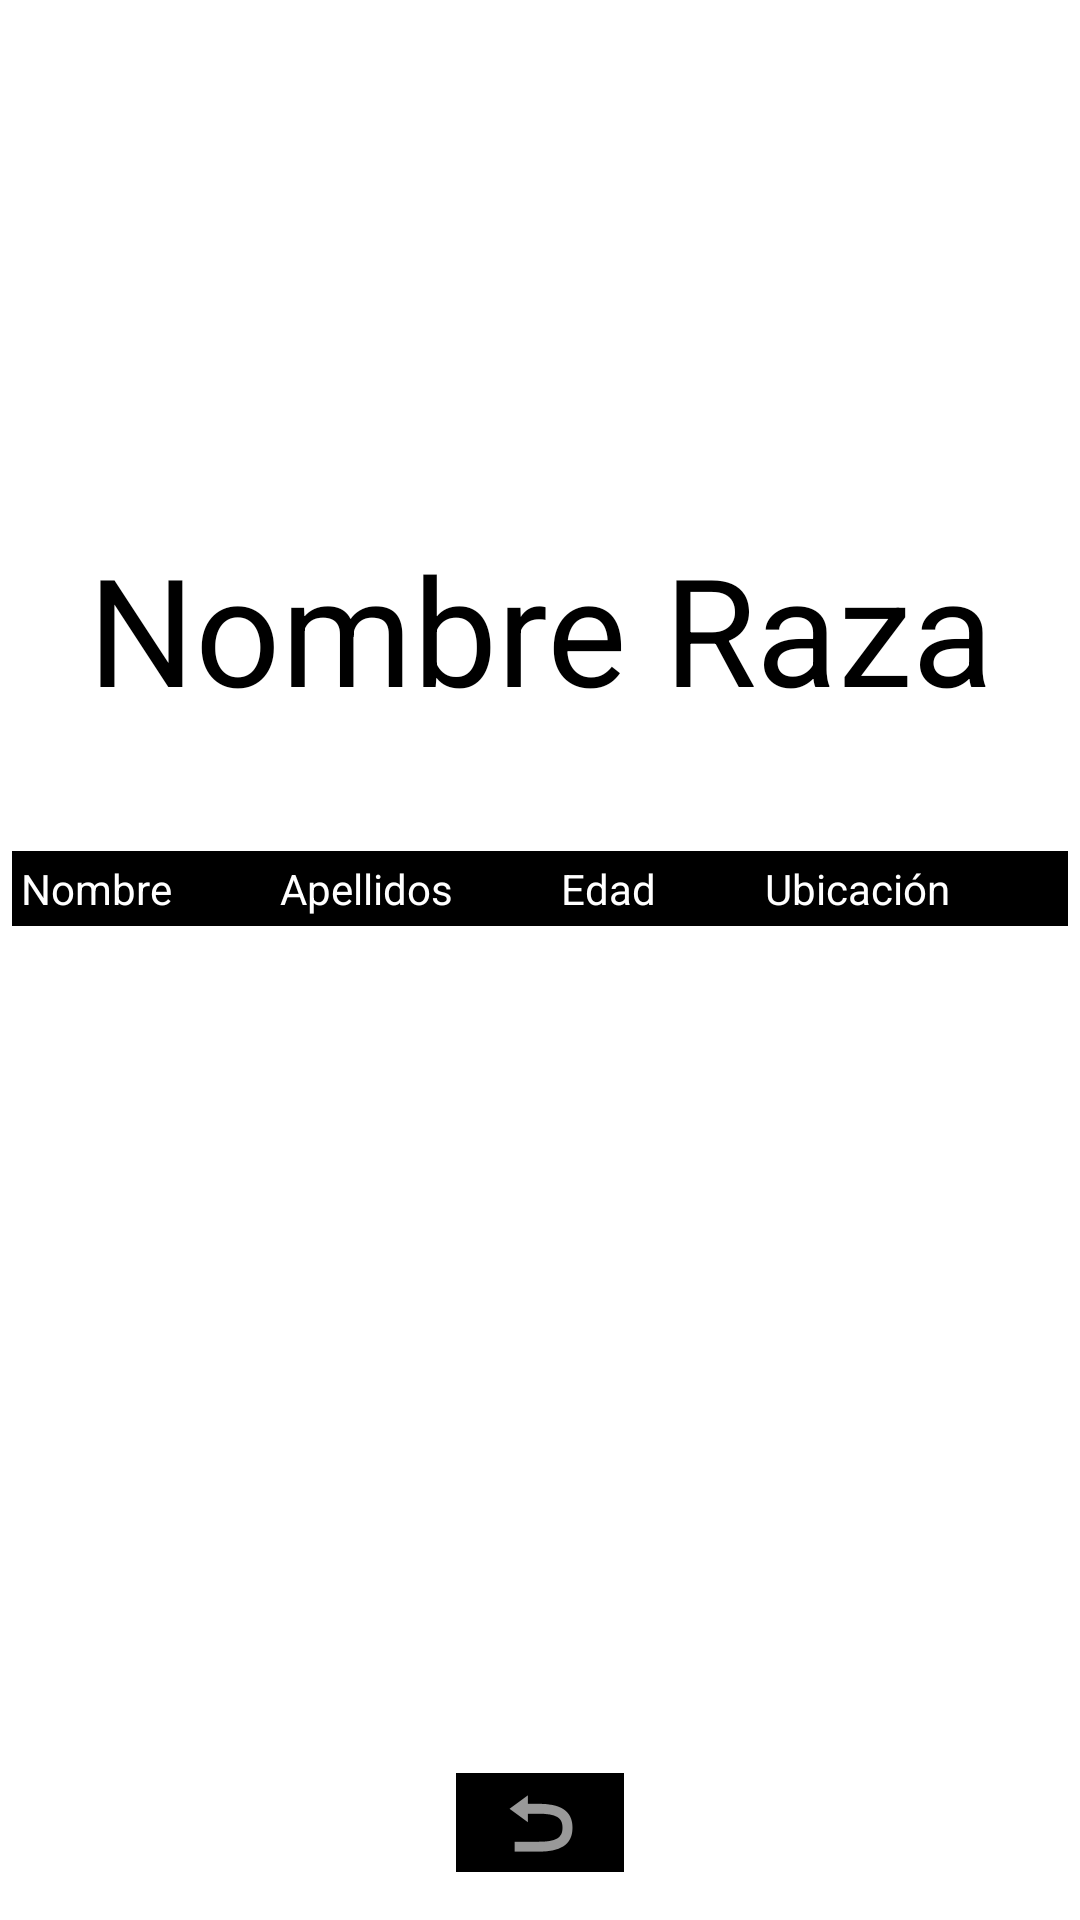

Screen size 1080x1920. Icon name, then its box in pixels as [x1, y1, x2, y2]:
revert: [456, 1773, 624, 1872]
